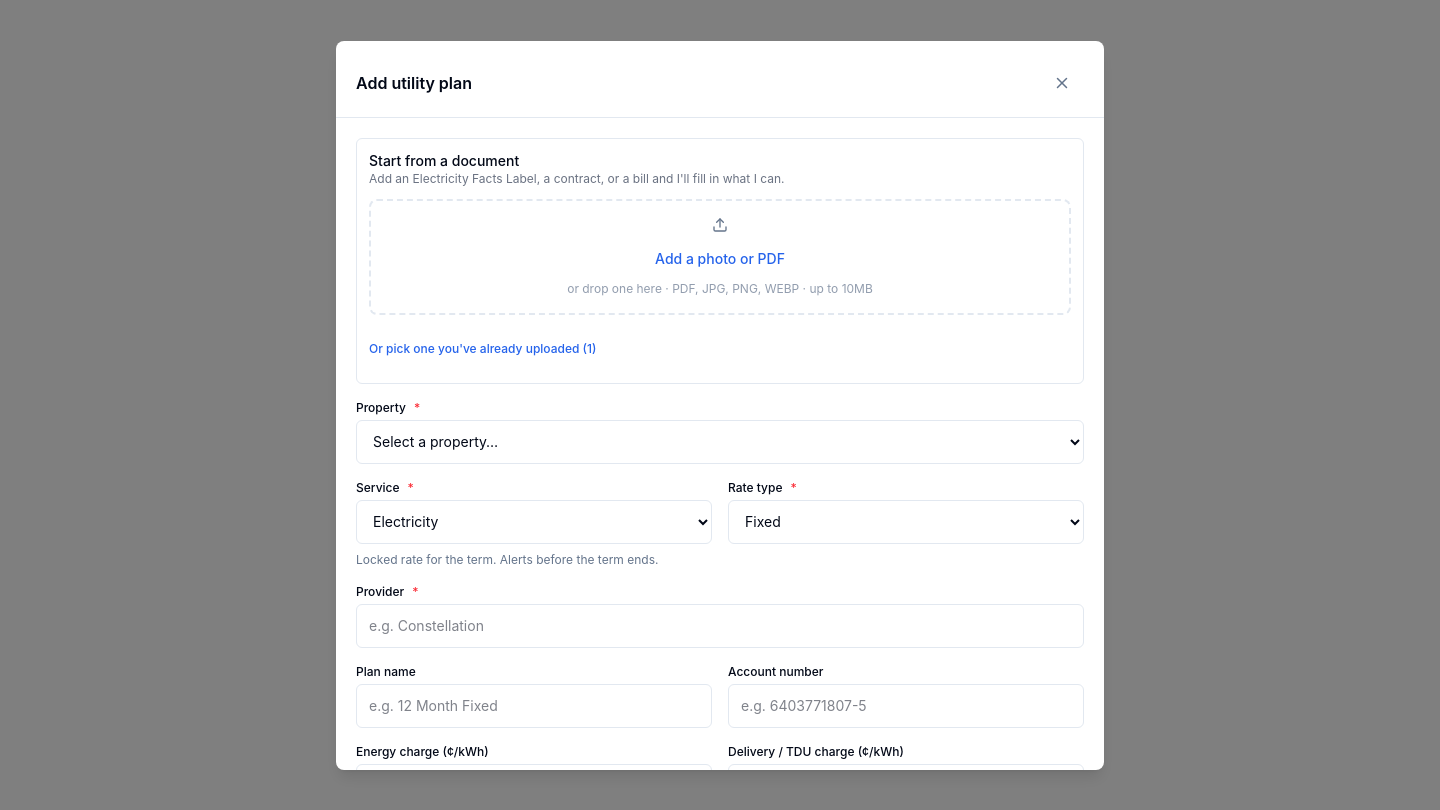
it: AddUtilityPlanDialog — reading from a document › shows a warning about a field that may be wrong
Click the heading "Or pick one you've already uploaded (1)" at (483,348), box [369,340,596,356]
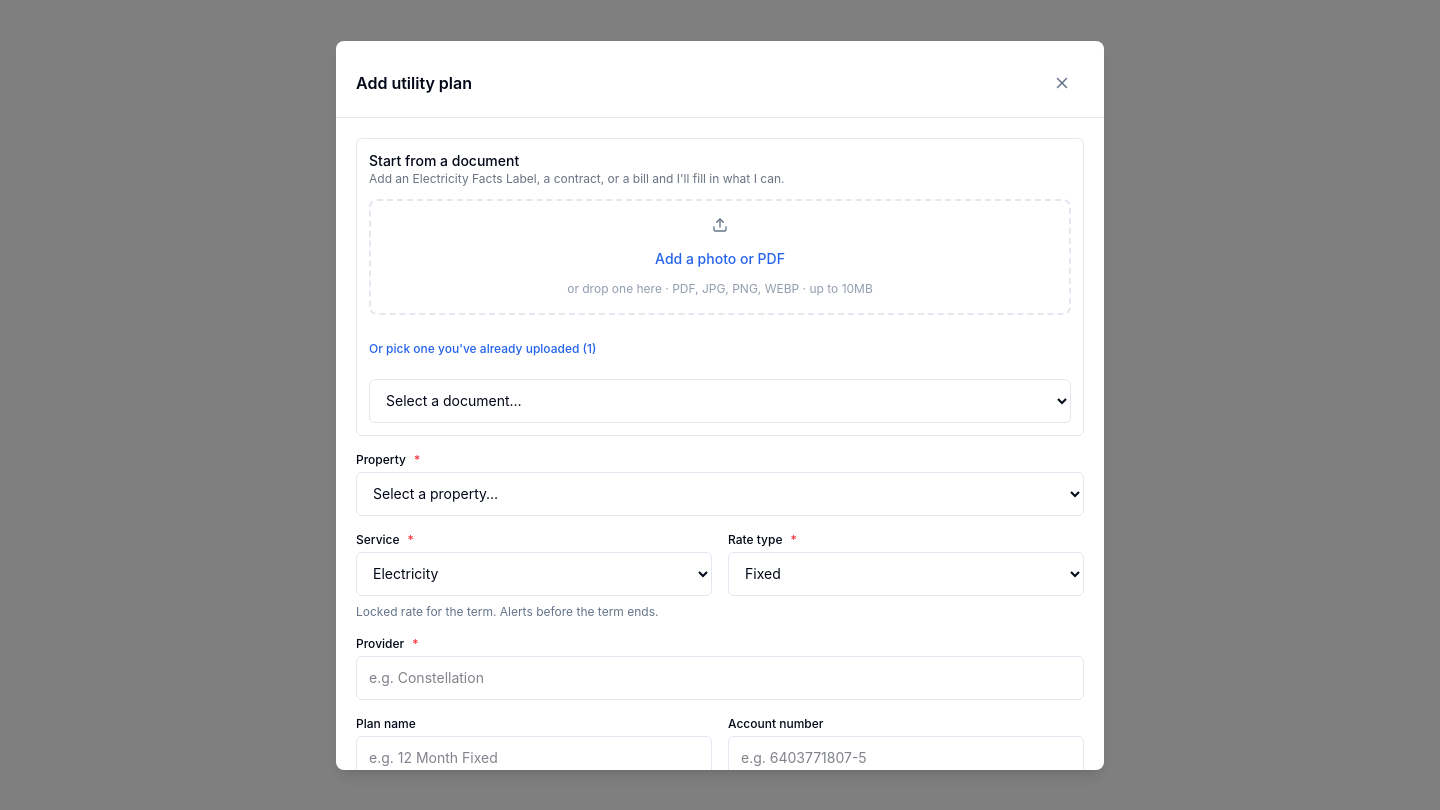
Select "constellation-efl.pdf" in the dropdown with test id "utility-plan-document-select" at (720,400), box [369,378,1071,422]
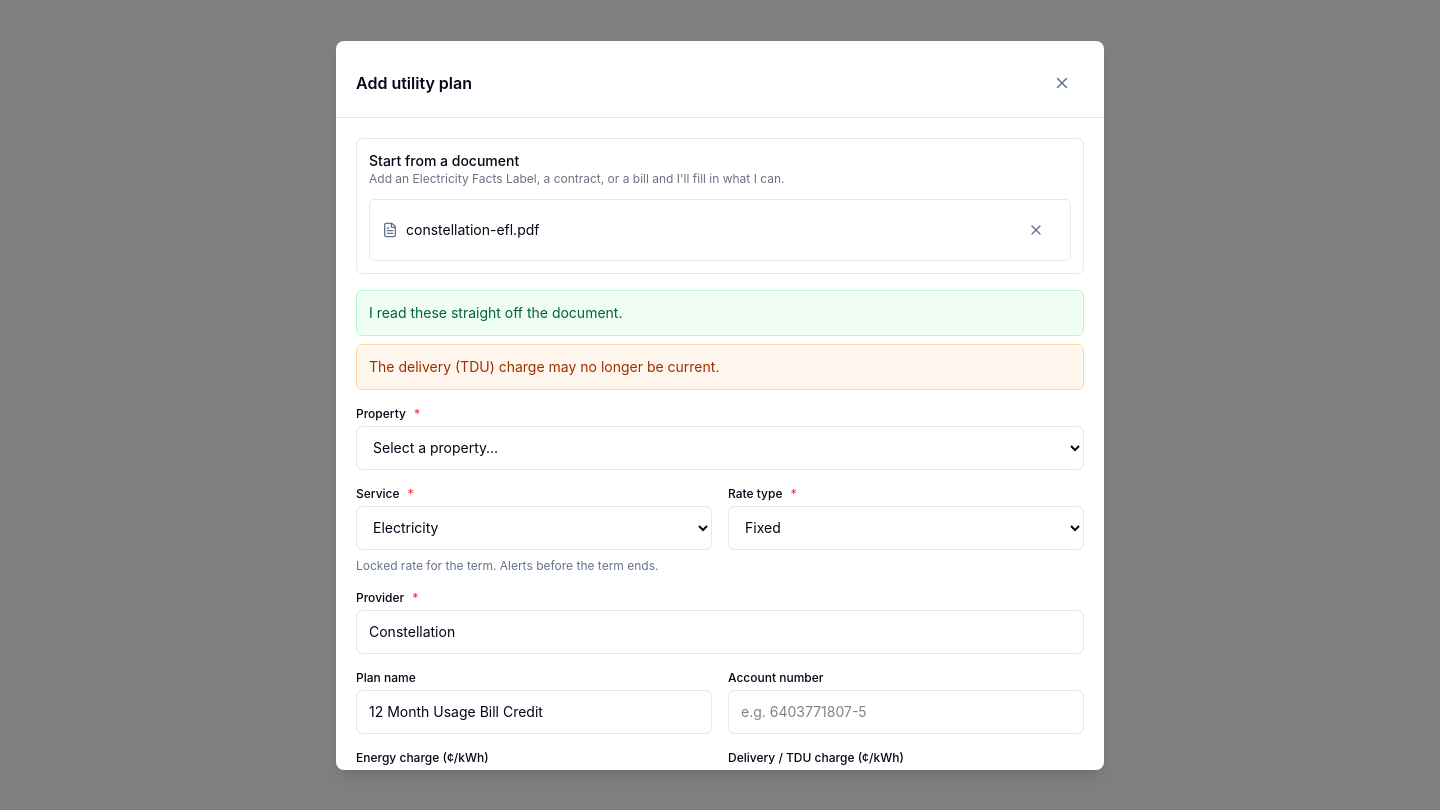
Result: the text "The delivery (TDU) charge may no longer be current." is shown at [356,344,1084,390]
